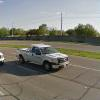Car: (13, 39, 80, 73)
